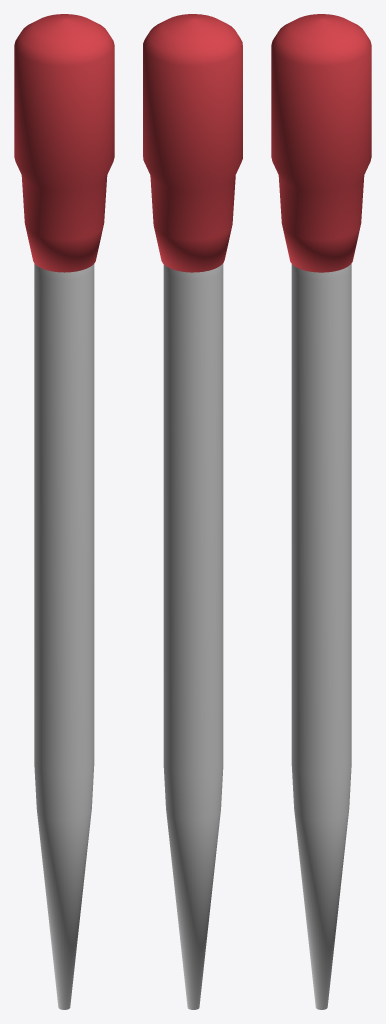
Rendered from Pipet.fbx.
The picture shows the model from 3 angles, left to right: view 1: azimuth 90°, elevation 25°; view 2: azimuth 210°, elevation 25°; view 3: azimuth 270°, elevation 25°; orthographic projection.
Visible parts, largest first — view 1: Cylinder; view 2: Cylinder; view 3: Cylinder.
Part boxes in pixels (x1=…): Cylinder: x1=14, y1=14, x2=114, y2=1009; Cylinder: x1=143, y1=14, x2=242, y2=1009; Cylinder: x1=271, y1=14, x2=371, y2=1009.
Bounding box in the file's own units: 27.5 × 300 × 27.5.
